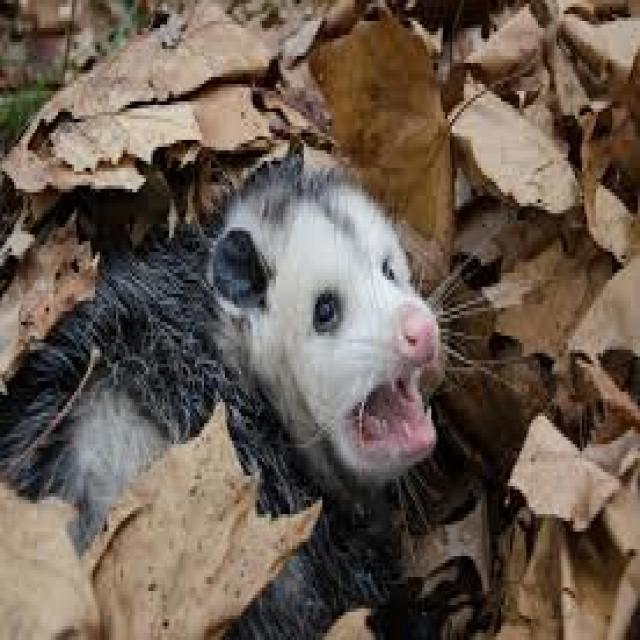possum: (0, 154, 438, 637)
